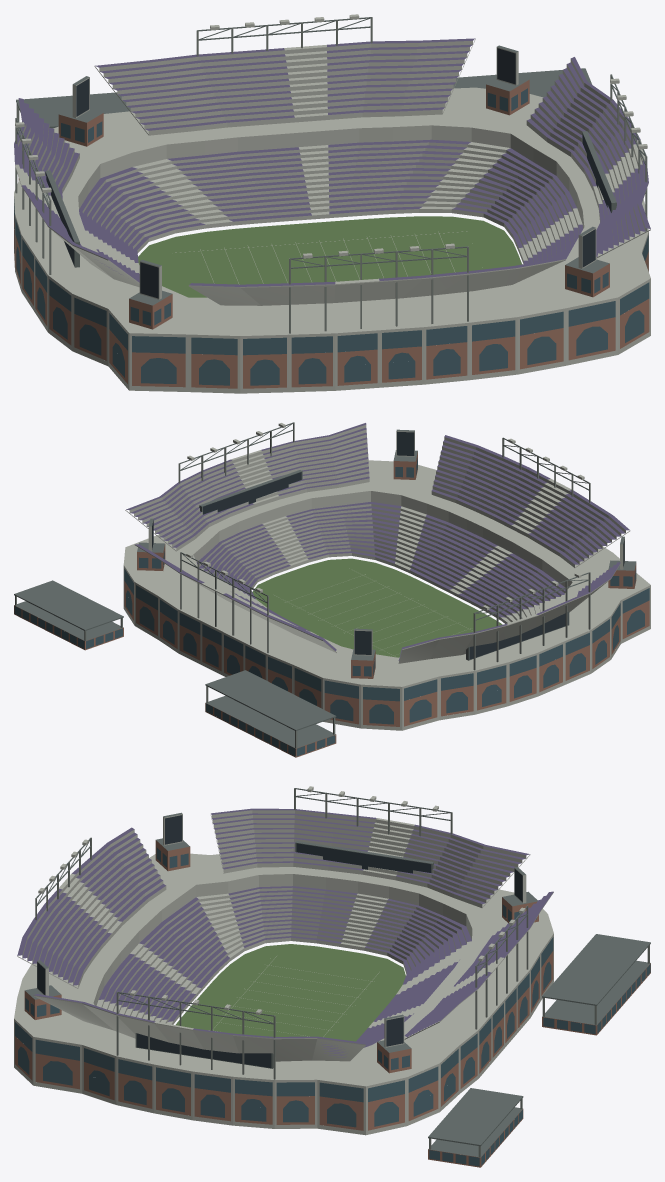
The model's file is mt-bank-stadium-baltimore-far.glb.
The picture shows the model from 3 angles, top to bottom: view 1: azimuth 30°, elevation 25°; view 2: azimuth 150°, elevation 25°; view 3: azimuth 270°, elevation 25°; orthographic projection. The views are drawn at different scales.
Visible parts, largest first — view 1: mt-bank-stadium-baltimore-0-stone, mt-bank-stadium-baltimore-0-seat, mt-bank-stadium-baltimore-0-glass, mt-bank-stadium-baltimore-0-grass, mt-bank-stadium-baltimore-0-brick, mt-bank-stadium-baltimore-0-steel, mt-bank-stadium-baltimore-0-column, mt-bank-stadium-baltimore-0-screen; view 2: mt-bank-stadium-baltimore-0-stone, mt-bank-stadium-baltimore-0-seat, mt-bank-stadium-baltimore-0-glass, mt-bank-stadium-baltimore-0-grass, mt-bank-stadium-baltimore-0-steel, mt-bank-stadium-baltimore-0-brick, mt-bank-stadium-baltimore-0-screen, mt-bank-stadium-baltimore-0-column; view 3: mt-bank-stadium-baltimore-0-stone, mt-bank-stadium-baltimore-0-seat, mt-bank-stadium-baltimore-0-glass, mt-bank-stadium-baltimore-0-grass, mt-bank-stadium-baltimore-0-steel, mt-bank-stadium-baltimore-0-brick, mt-bank-stadium-baltimore-0-screen, mt-bank-stadium-baltimore-0-column.
Part boxes in pixels (x1,y1,x2,y2): mt-bank-stadium-baltimore-0-stone: (14, 14, 650, 393); mt-bank-stadium-baltimore-0-seat: (14, 38, 650, 286); mt-bank-stadium-baltimore-0-glass: (14, 88, 649, 385); mt-bank-stadium-baltimore-0-grass: (138, 216, 521, 297); mt-bank-stadium-baltimore-0-brick: (14, 79, 649, 388); mt-bank-stadium-baltimore-0-steel: (16, 17, 646, 305); mt-bank-stadium-baltimore-0-column: (15, 17, 647, 333); mt-bank-stadium-baltimore-0-screen: (45, 48, 611, 298); mt-bank-stadium-baltimore-0-stone: (123, 423, 650, 730); mt-bank-stadium-baltimore-0-seat: (126, 423, 629, 660); mt-bank-stadium-baltimore-0-glass: (14, 458, 649, 756); mt-bank-stadium-baltimore-0-grass: (252, 558, 502, 657); mt-bank-stadium-baltimore-0-steel: (14, 422, 636, 748); mt-bank-stadium-baltimore-0-brick: (14, 452, 649, 757); mt-bank-stadium-baltimore-0-screen: (152, 431, 624, 659); mt-bank-stadium-baltimore-0-column: (15, 422, 590, 747); mt-bank-stadium-baltimore-0-stone: (14, 786, 553, 1135); mt-bank-stadium-baltimore-0-seat: (17, 808, 553, 1057); mt-bank-stadium-baltimore-0-glass: (15, 847, 650, 1166); mt-bank-stadium-baltimore-0-grass: (175, 944, 405, 1041); mt-bank-stadium-baltimore-0-steel: (25, 788, 650, 1157); mt-bank-stadium-baltimore-0-brick: (15, 840, 650, 1167); mt-bank-stadium-baltimore-0-screen: (37, 815, 522, 1067); mt-bank-stadium-baltimore-0-column: (35, 788, 649, 1156).
Size of the model in its own units: 283 by 56.39 by 283.
